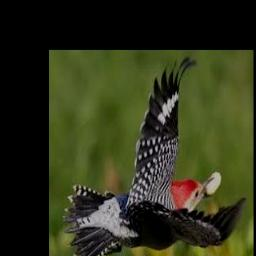Woodpecker: (62, 56, 246, 256)
